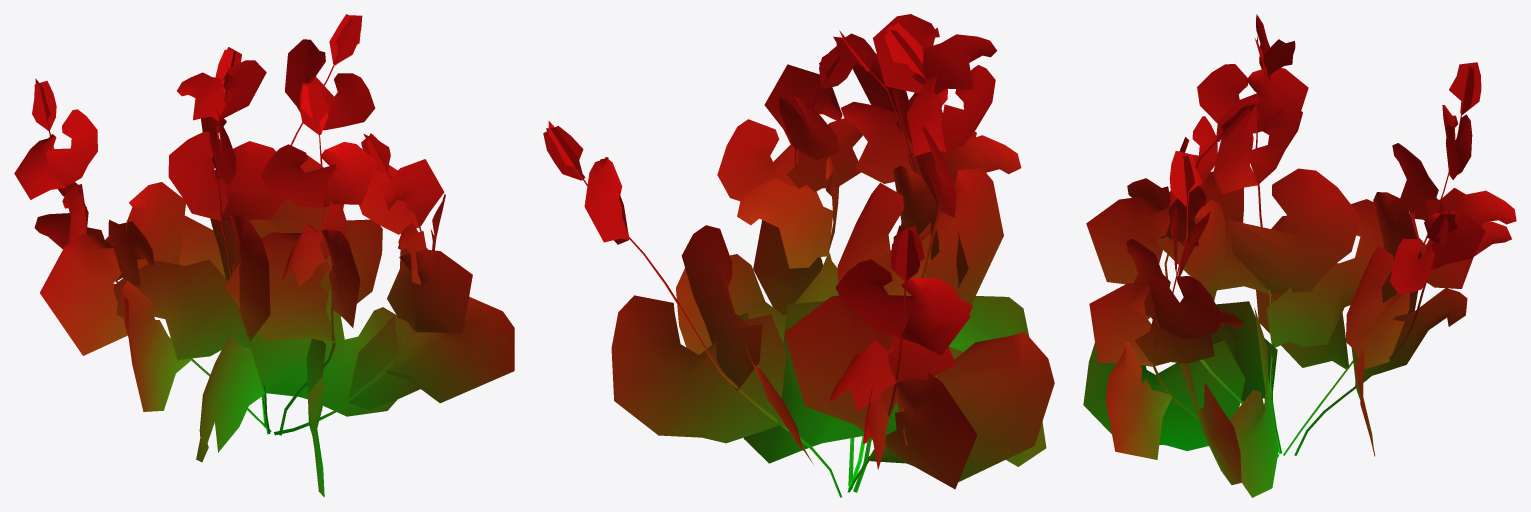
File: White Ramping Fumitory_LOD0_Var1_ti4efc3ia.fbx
The picture shows the model from 3 angles, left to right: view 1: azimuth 30°, elevation 25°; view 2: azimuth 150°, elevation 25°; view 3: azimuth 270°, elevation 25°; orthographic projection. The views are drawn at different scales.
Visible parts, largest first — view 1: _e192_Var1_LOD0; view 2: _e192_Var1_LOD0; view 3: _e192_Var1_LOD0.
Part boxes in pixels (x1=…): _e192_Var1_LOD0: x1=14, y1=14, x2=514, y2=497; _e192_Var1_LOD0: x1=543, y1=14, x2=1054, y2=497; _e192_Var1_LOD0: x1=1083, y1=14, x2=1516, y2=497.
Size of the model in its own units: 81.17 by 87.73 by 86.23.
